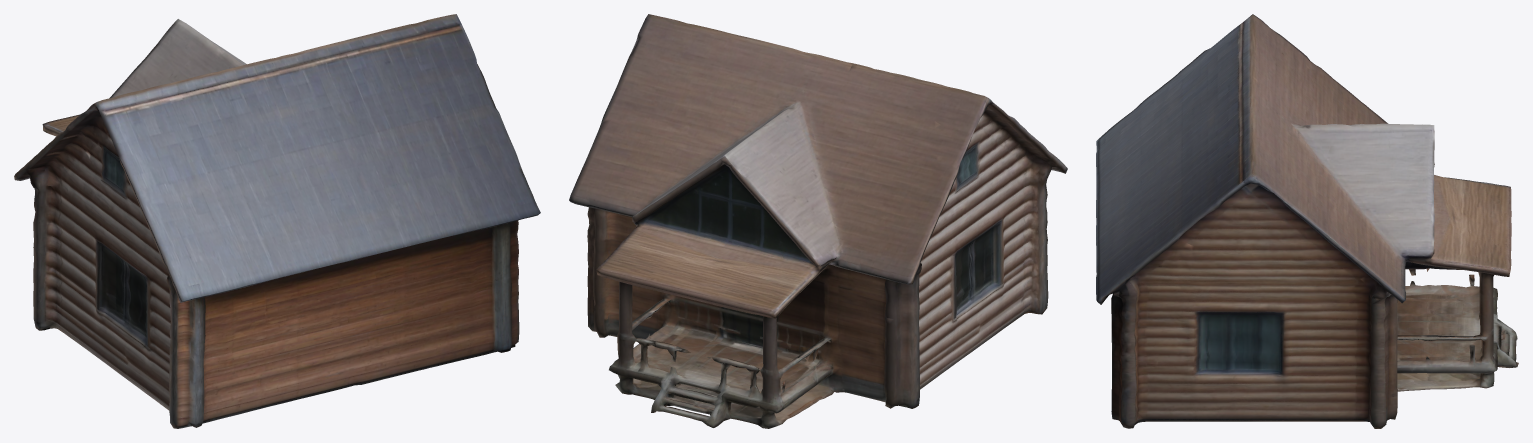
File: wood_house_1020104901_refine.glb
The picture shows the model from 3 angles, left to right: view 1: azimuth 30°, elevation 25°; view 2: azimuth 150°, elevation 25°; view 3: azimuth 270°, elevation 25°; orthographic projection. The views are drawn at different scales.
Size of the model in its own units: 1.82 by 1.36 by 2.
1 material, 1 textured.
